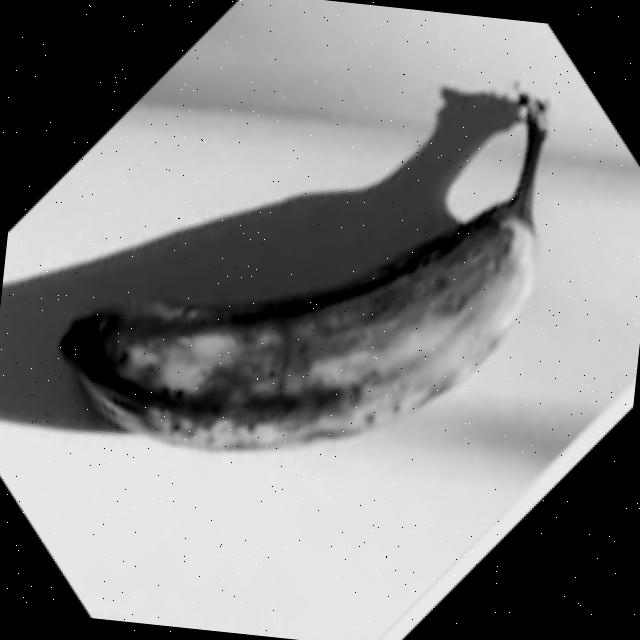overripe: (62, 103, 551, 487)
